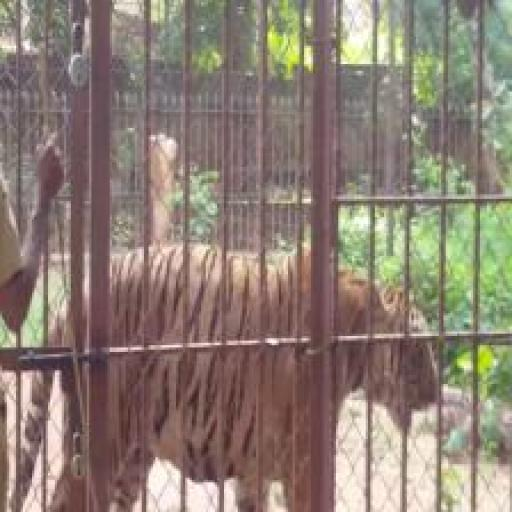Tiger: (46, 247, 441, 512)
